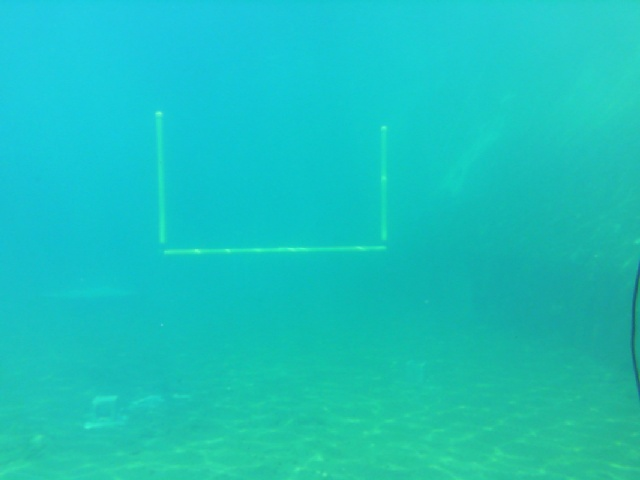channel: (151, 110, 397, 261)
